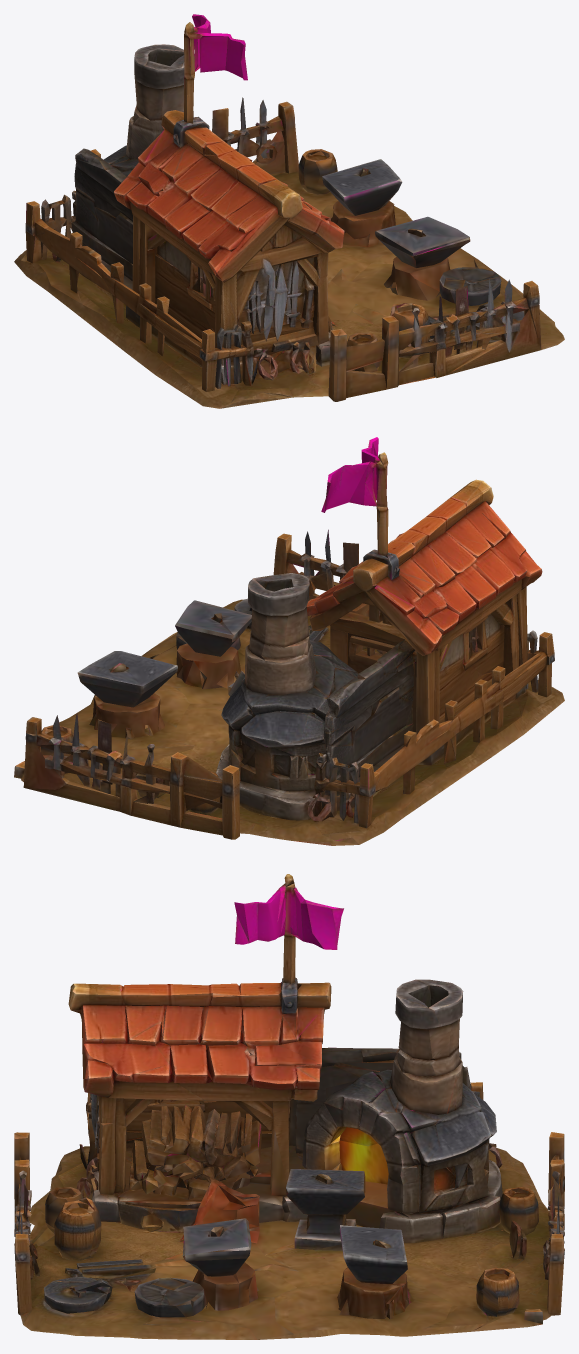
The model's file is smithy.glb.
The picture shows the model from 3 angles, top to bottom: view 1: azimuth 30°, elevation 25°; view 2: azimuth 150°, elevation 25°; view 3: azimuth 270°, elevation 25°; orthographic projection. The views are drawn at different scales.
Parts seen in each view (by area): view 1: Mesh_0; view 2: Mesh_0; view 3: Mesh_0.
Boxes of the visible parts, x1,y1,x2,y2 form: Mesh_0: (14,14,564,408); Mesh_0: (14,437,564,845); Mesh_0: (14,874,564,1339).
Size of the model in its own units: 1.57 by 1.22 by 1.9.
Materials: 1 (1 with a texture image).
